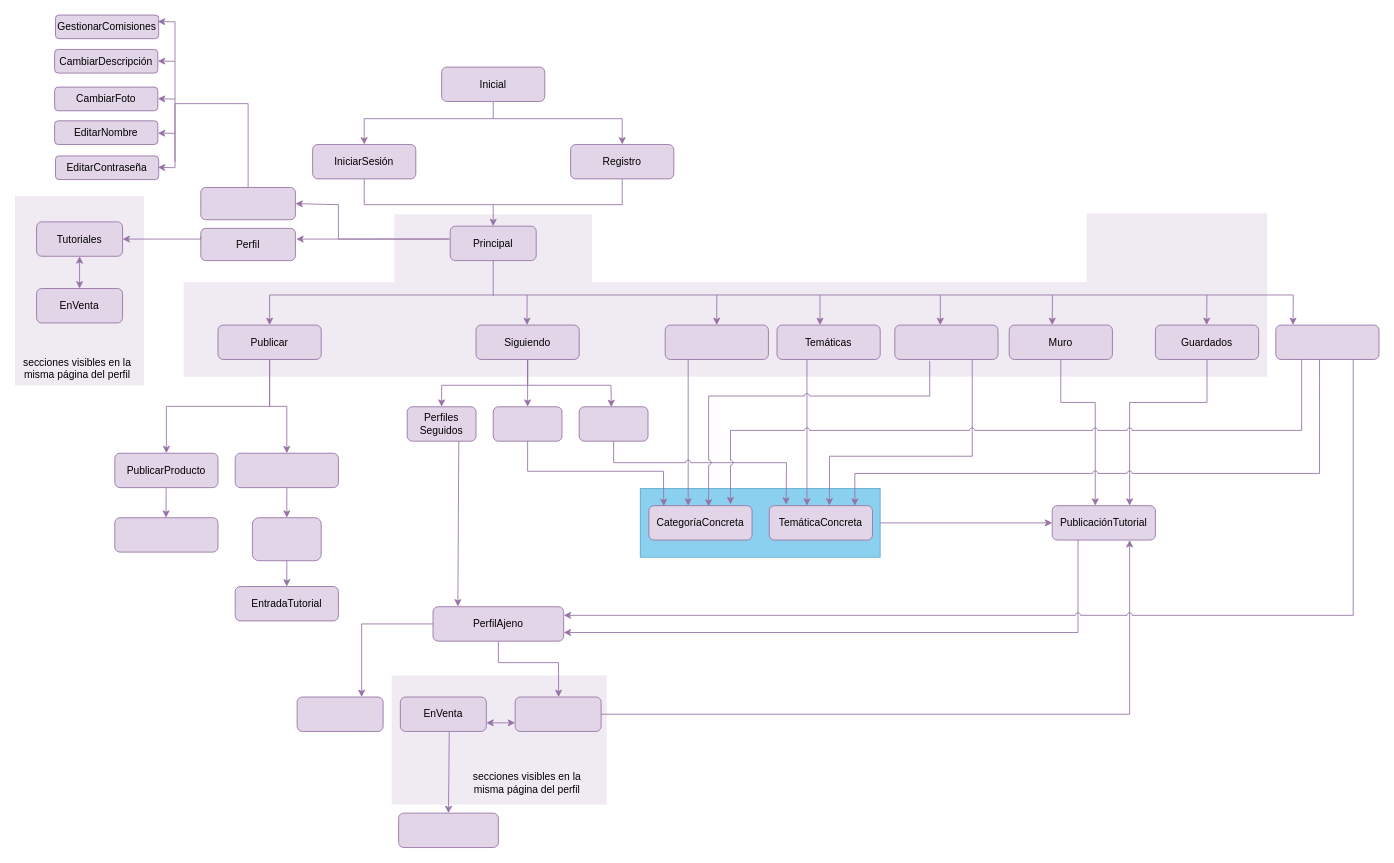
Image size: 1394x863. Some labels were removed from this diagram. Each missing label, with the centre of its shape:
Categorías: the point at 716,341
Categorías Seguidas: the point at 527,423
Contacto: the point at 339,713
EditarPerfil: the point at 247,203
EntradaProducto: the point at 166,534
Material Herramientas Pasos: the point at 286,539
Publicaciones: the point at 557,713
PublicaciónProducto: the point at 448,830
PublicarTutorial: the point at 286,470
Resultado búsqueda: the point at 1327,341
secciones accesibles desde el menú lateral izquierdo: the point at 1176,247
Temáticas Seguidas: the point at 613,423
Tendencias: the point at 946,341
